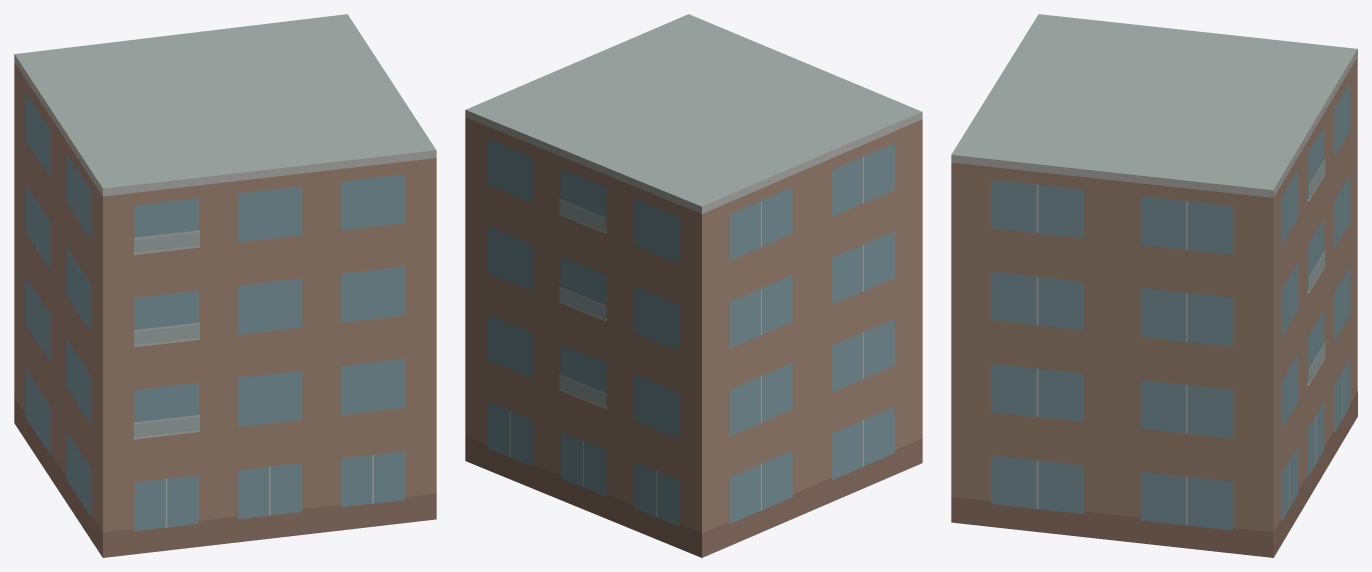
File: survey-upis-32820865.glb
3 renders of one model, left to right at view 1: azimuth 30°, elevation 25°; view 2: azimuth 150°, elevation 25°; view 3: azimuth 270°, elevation 25°, orthographic. The views are drawn at different scales.
Parts seen in each view (by area): view 1: survey-upis-32820865.tmp; view 2: survey-upis-32820865.tmp; view 3: survey-upis-32820865.tmp.
Boxes of the visible parts, left/top/right/bottom form: survey-upis-32820865.tmp: left=14, top=14, right=436, bottom=557; survey-upis-32820865.tmp: left=465, top=14, right=922, bottom=557; survey-upis-32820865.tmp: left=951, top=14, right=1357, bottom=557.
Size of the model in its own units: 11.93 by 11.6 by 11.64.
